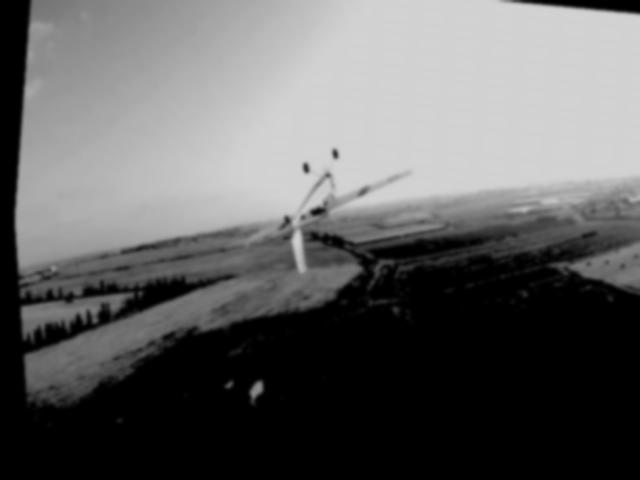hedef: (213, 121, 415, 303)
